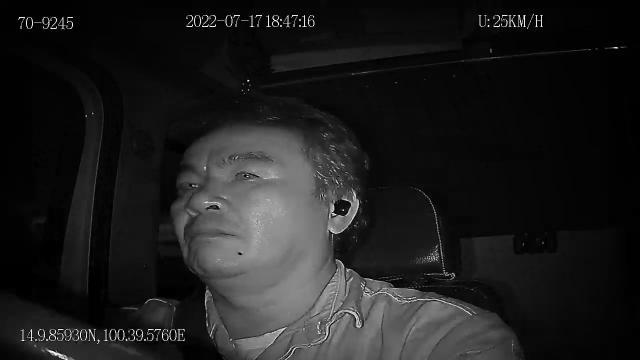SafeDriving: (228, 160, 270, 188), (172, 170, 209, 198)
Seatbelt: (171, 294, 221, 360)
